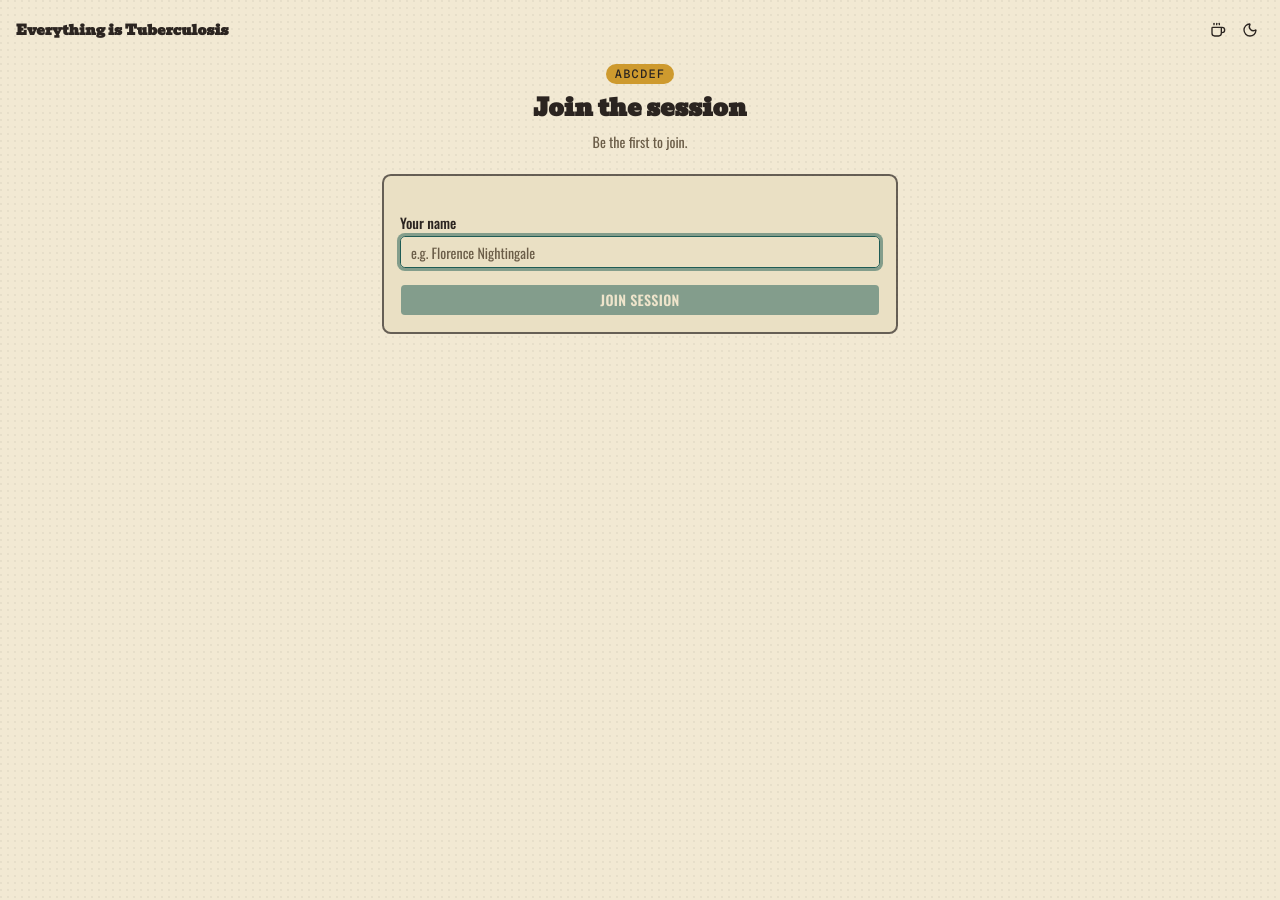
it: PartyRoom › shows the join error message when joining fails
In the field labelled "Your name": (640, 252) [400,236,880,268], type "Bob"
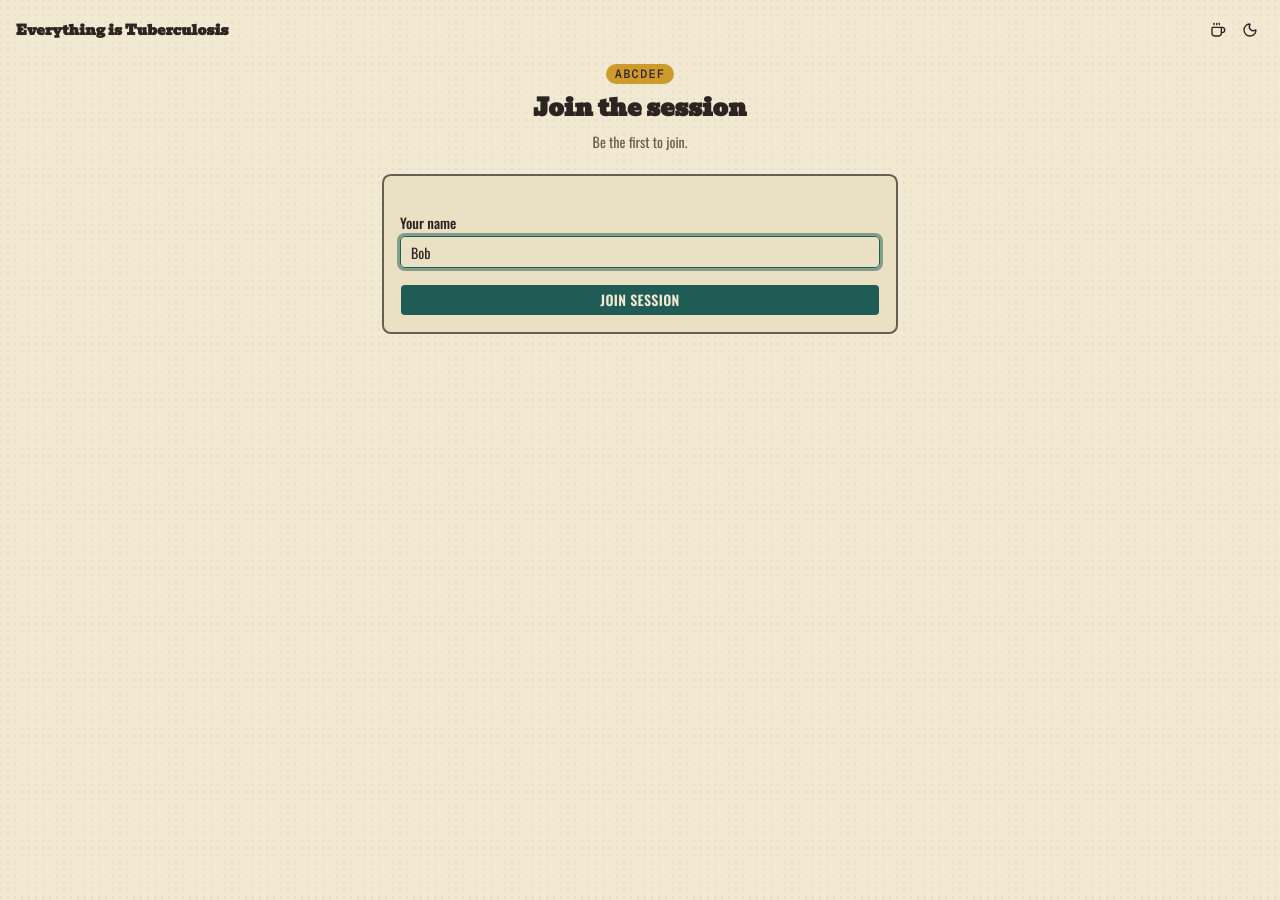
Click the button "Join Session": click(640, 300) [400,284,880,316]
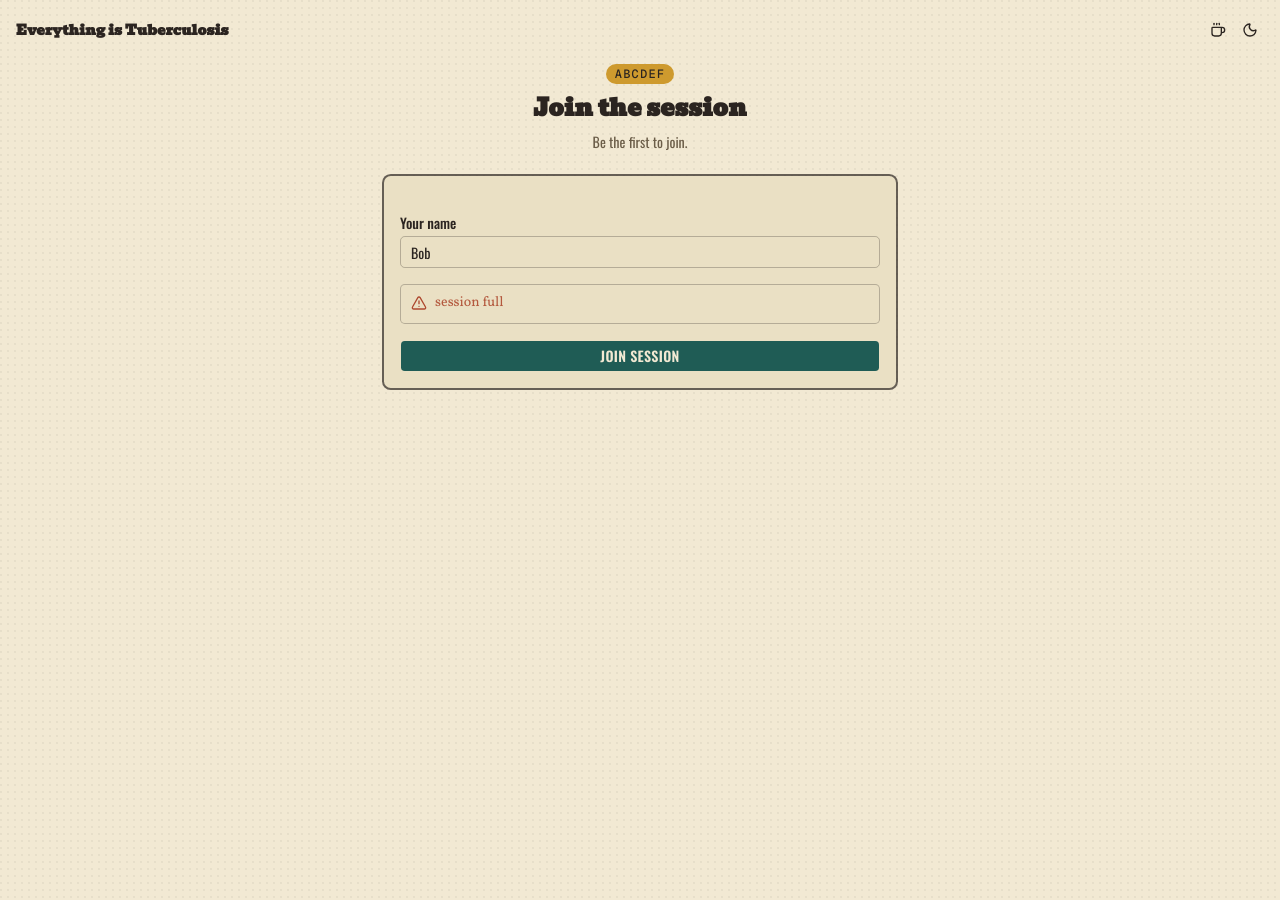
Check: the text "session full" is shown, box [435,293,504,312]
